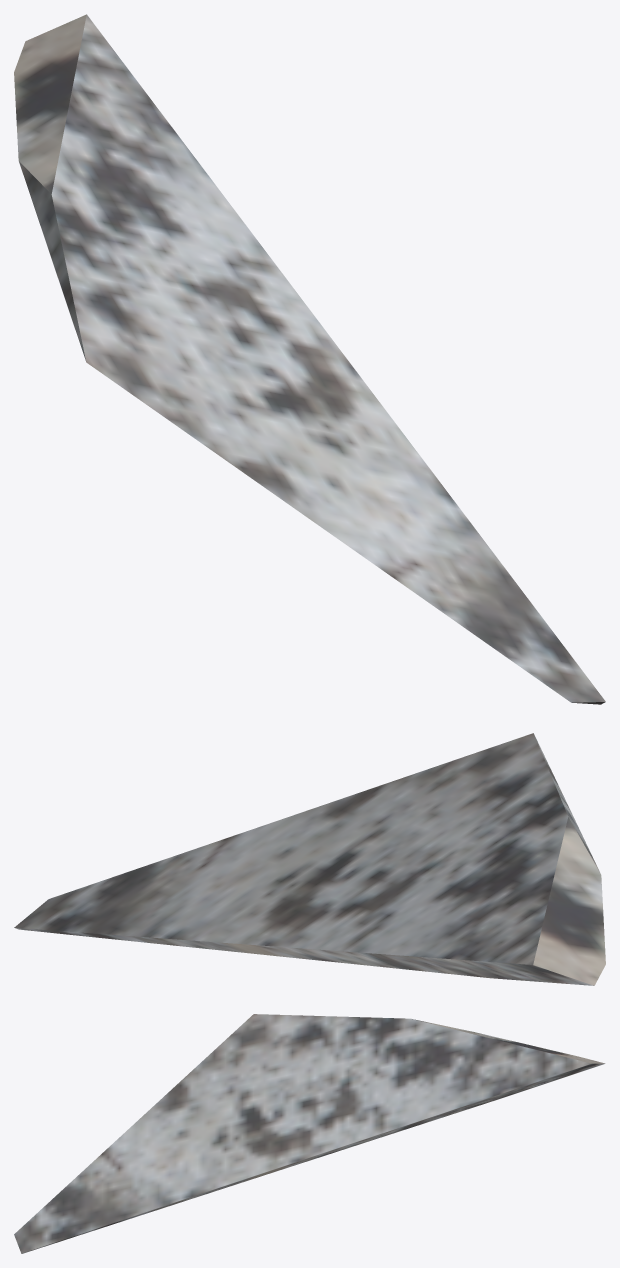
Rendered from Asteroid_Large_001_02_001_03_007.fbx.
The picture shows the model from 3 angles, top to bottom: view 1: azimuth 30°, elevation 25°; view 2: azimuth 210°, elevation 25°; view 3: azimuth 270°, elevation 25°; orthographic projection. The views are drawn at different scales.
Visible parts, largest first — view 1: Asteroid_Large_001_02_001_03_007; view 2: Asteroid_Large_001_02_001_03_007; view 3: Asteroid_Large_001_02_001_03_007.
Part boxes in pixels (<box>): Asteroid_Large_001_02_001_03_007: <box>14,14,605,704</box>; Asteroid_Large_001_02_001_03_007: <box>14,733,605,985</box>; Asteroid_Large_001_02_001_03_007: <box>14,1014,605,1253</box>.
Bounding box in the file's own units: 1.73 × 1.71 × 4.92.
